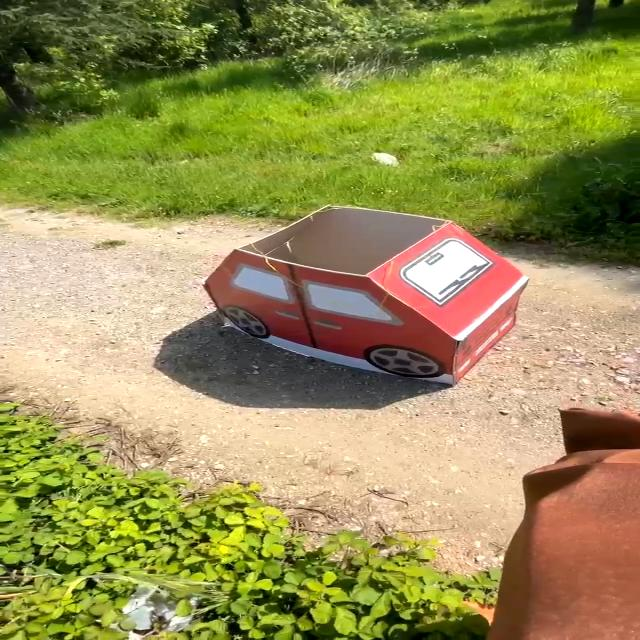red_car: (174, 189, 564, 409)
